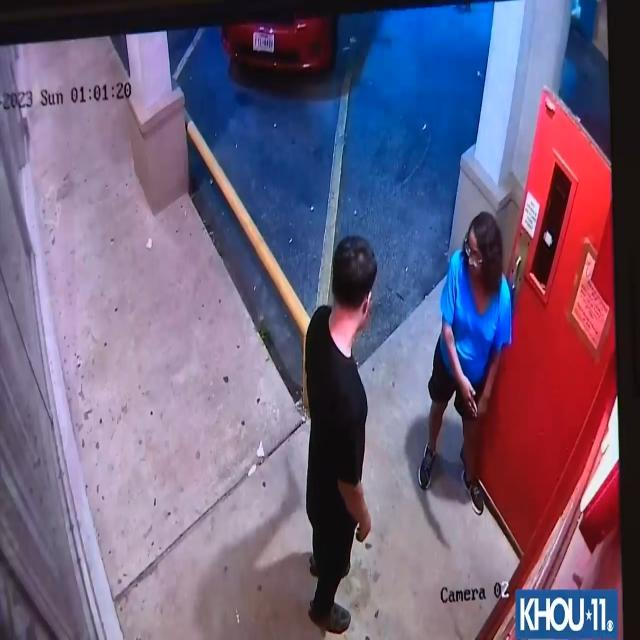Person: (305, 234, 377, 637), (421, 212, 512, 520)
